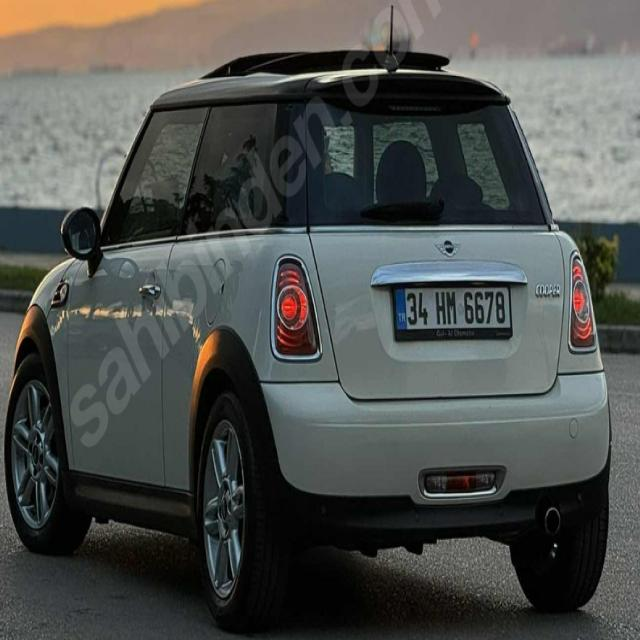mini: (431, 233, 466, 260)
